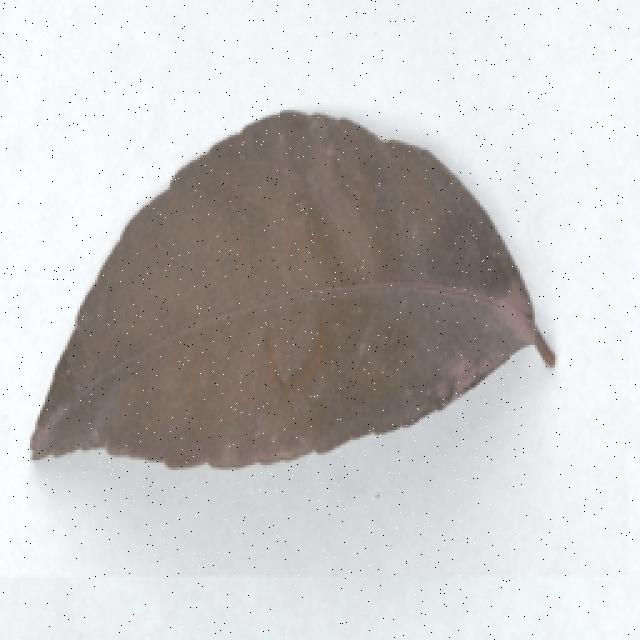healthy: (22, 102, 558, 512)
